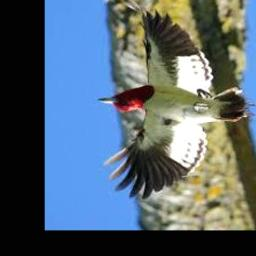Woodpecker: (98, 3, 254, 199)
